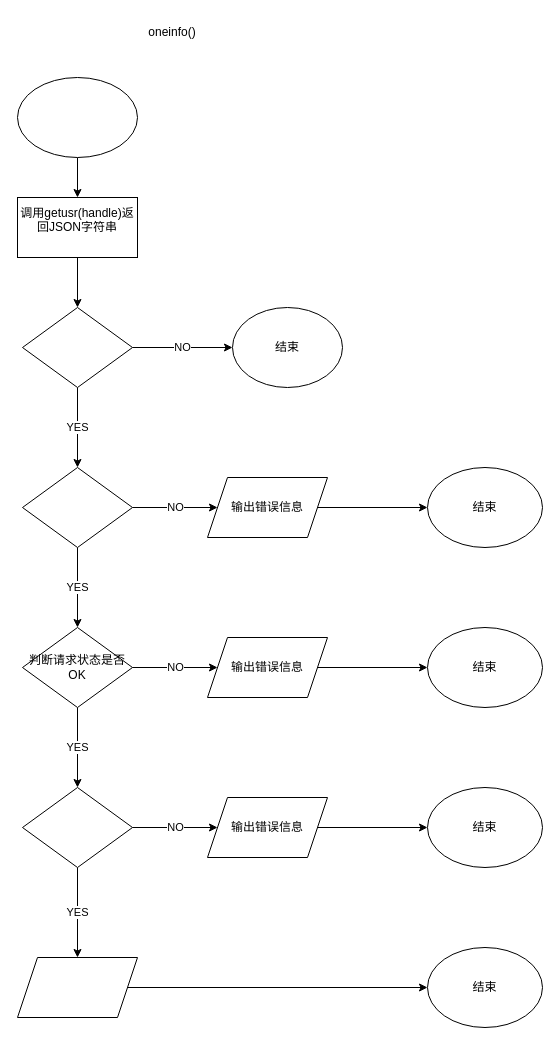
Some shapes in this 560 by 1045 pixel diagram are drawn without their labels. The shapes that lost their labels are listed below. From the top down, each one's centre as x and y in pixels, then its label:
[77,117]: 开始
[77,347]: 返回JSON字符串成功？
[77,507]: 解析JSON字符串成功？
[77,827]: 寻找目标用户
[77,987]: 打印用户信息
